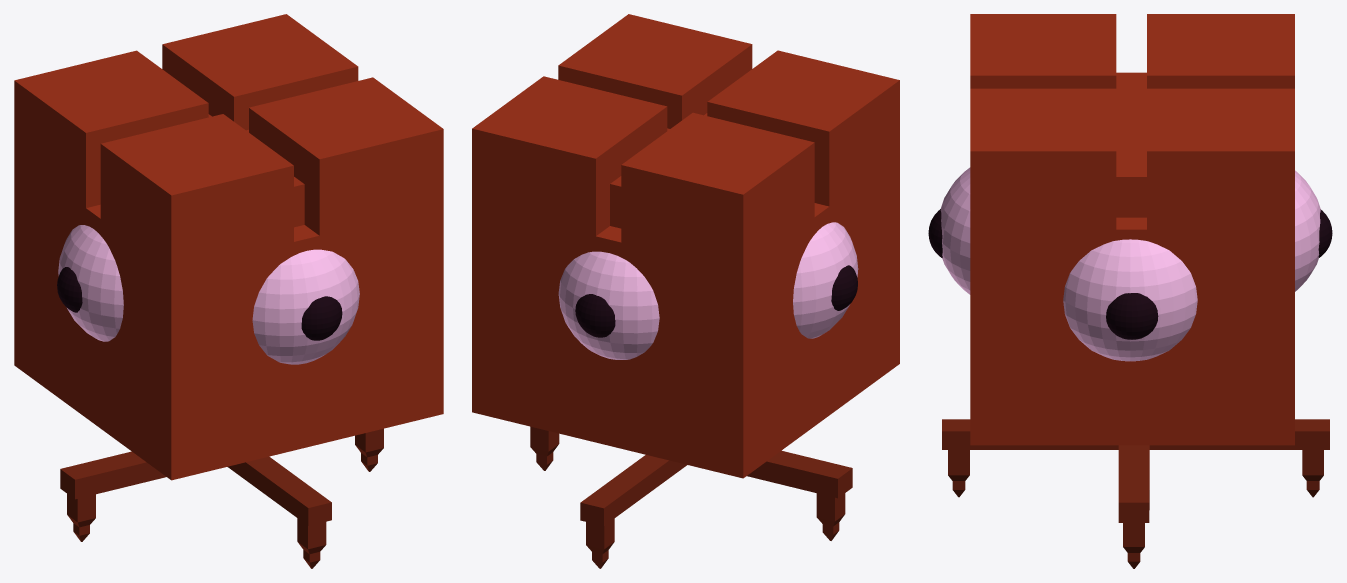
File: CubeLyoco.glb
The picture shows the model from 3 angles, left to right: view 1: azimuth 30°, elevation 25°; view 2: azimuth 150°, elevation 25°; view 3: azimuth 270°, elevation 25°; orthographic projection. The views are drawn at different scales.
Visible parts, largest first — view 1: Plane, Sphere; view 2: Plane, Sphere; view 3: Plane, Sphere.
Part boxes in pixels (x1,y1,x2,y2): Plane: [14, 14, 443, 568]; Sphere: [57, 267, 342, 340]; Plane: [472, 14, 899, 568]; Sphere: [575, 265, 857, 337]; Plane: [940, 14, 1329, 568]; Sphere: [928, 209, 1332, 339].
Size of the model in its own units: 2.54 by 2.82 by 2.49.
